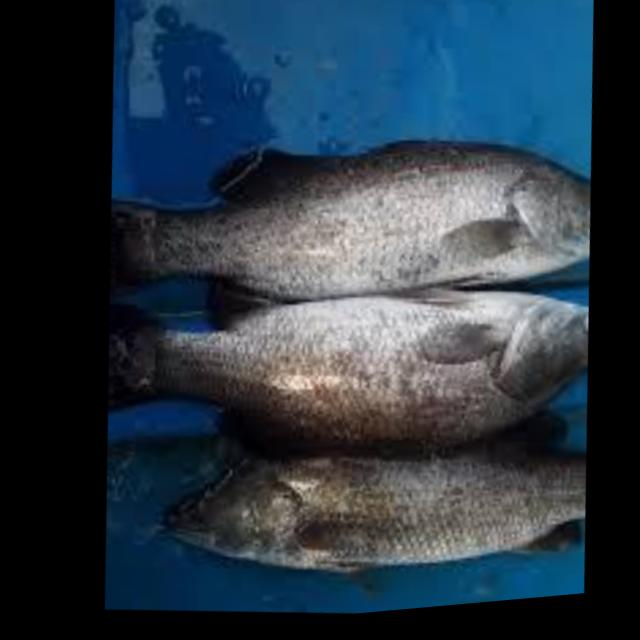Seabass: (94, 91, 605, 348), (92, 237, 602, 493), (145, 406, 596, 611)
